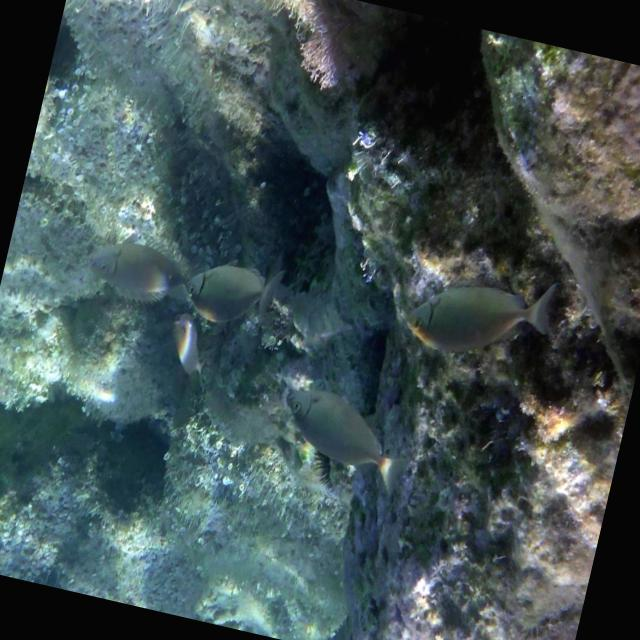Sokar Baligi: (262, 350, 428, 514), (394, 245, 568, 382), (174, 235, 296, 341)
